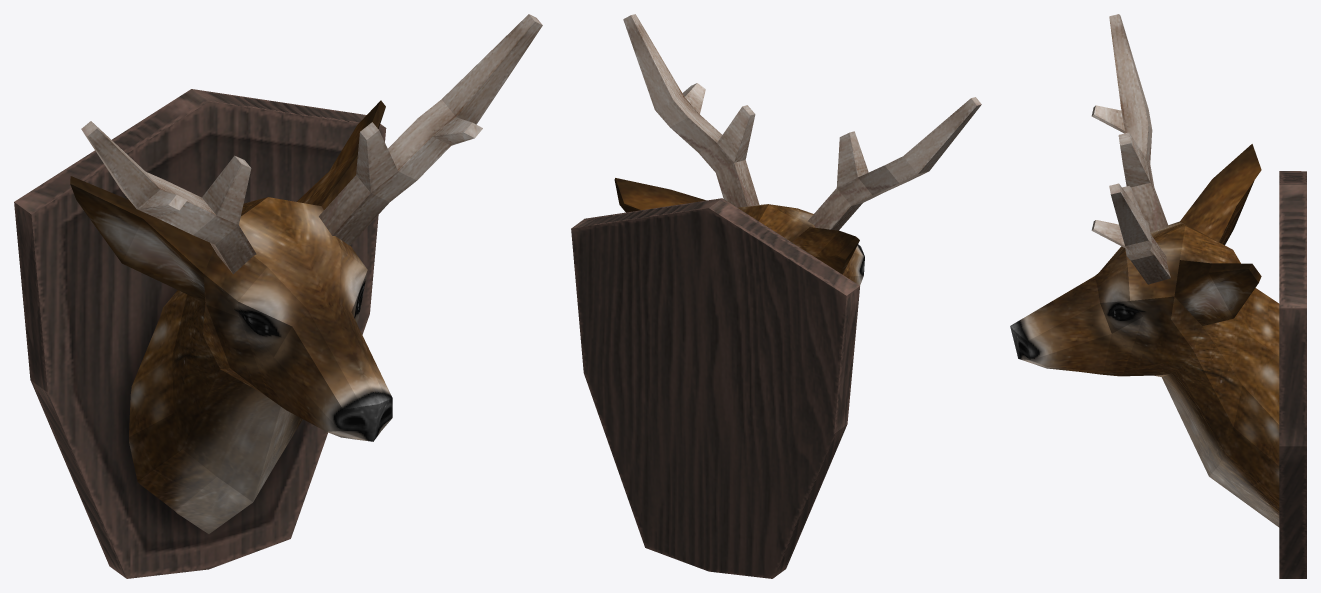
Rendered from Deer.Head.fbx.
3 views of the same model, side by side, from view 1: azimuth 30°, elevation 25°; view 2: azimuth 150°, elevation 25°; view 3: azimuth 270°, elevation 25° (orthographic). The views are drawn at different scales.
Visible parts, largest first — view 1: Deer.Head; view 2: Deer.Head; view 3: Deer.Head.
Part boxes in pixels (x1,y1,x2,y2): Deer.Head: (14, 14, 542, 578); Deer.Head: (571, 14, 981, 578); Deer.Head: (1010, 14, 1306, 578).
Bounding box in the file's own units: 80.43 × 97.19 × 57.23.
